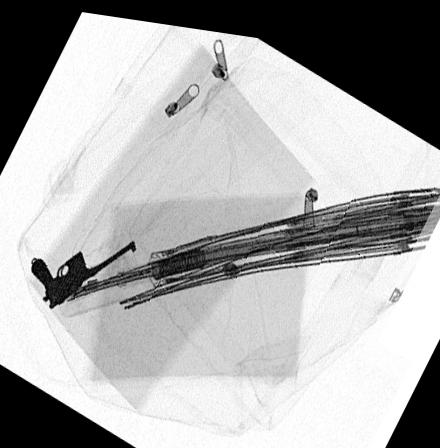Gun: (31, 232, 139, 309)
